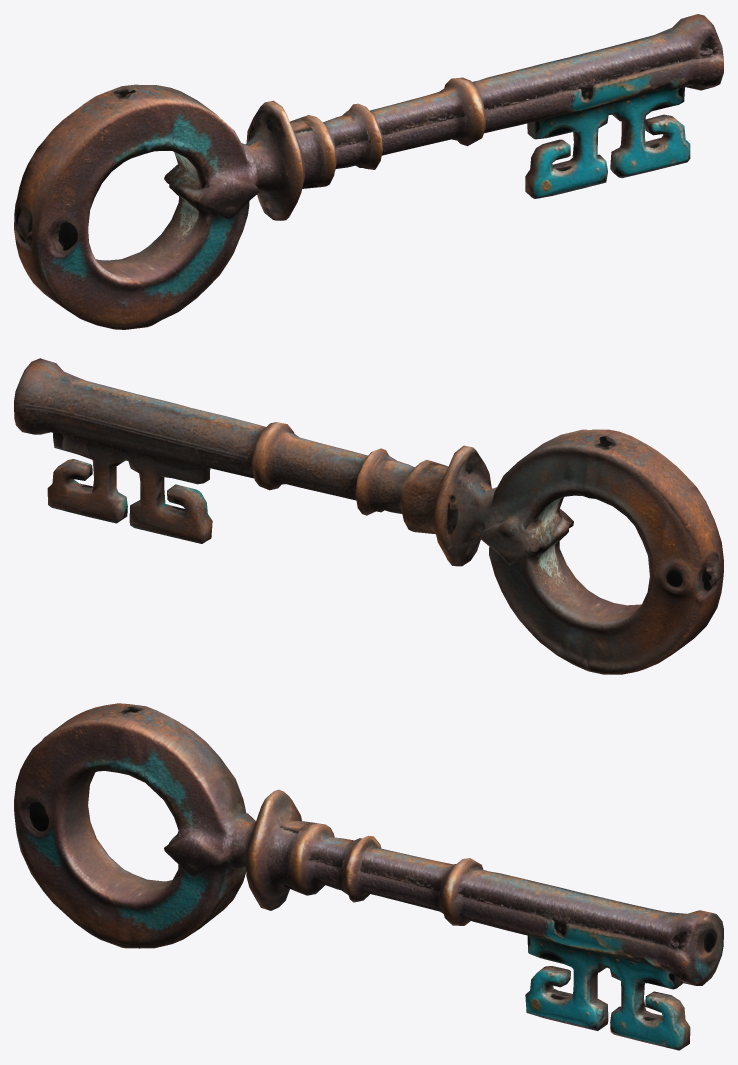
The model's file is fantasy_old_rusty_key_0502100545.fbx.
3 renders of one model, top to bottom at view 1: azimuth 30°, elevation 25°; view 2: azimuth 150°, elevation 25°; view 3: azimuth 330°, elevation 25°, orthographic.
Parts seen in each view (by area): view 1: Mesh_0; view 2: Mesh_0; view 3: Mesh_0.
Part boxes in pixels (x1,y1,x2,y2): Mesh_0: [14, 14, 723, 329]; Mesh_0: [14, 358, 723, 674]; Mesh_0: [14, 703, 723, 1050].
Bounding box in the file's own units: 200 × 62.67 × 24.62.
1 material, 1 textured.
